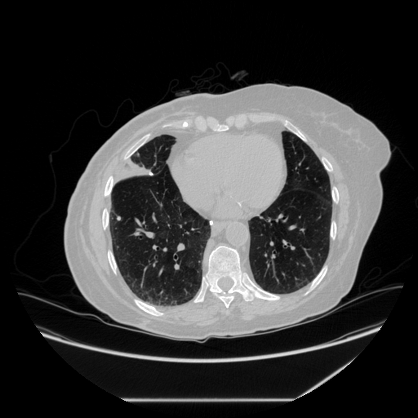nodule: (116, 216, 120, 220)
